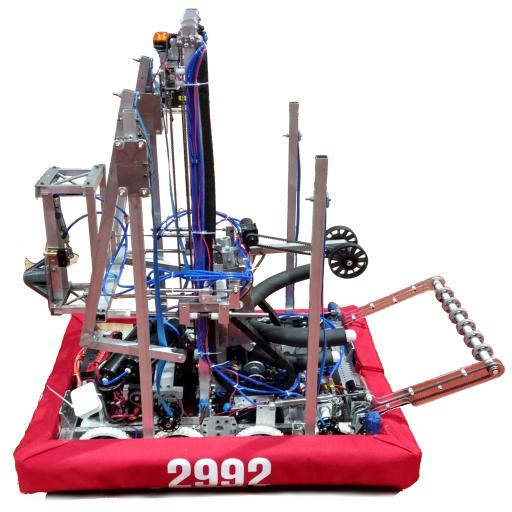robot: (16, 4, 506, 502)
